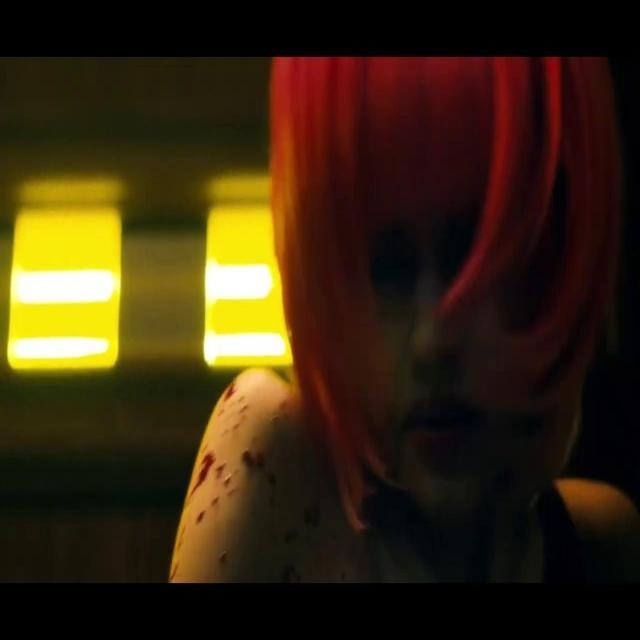flood: (177, 364, 286, 576)
